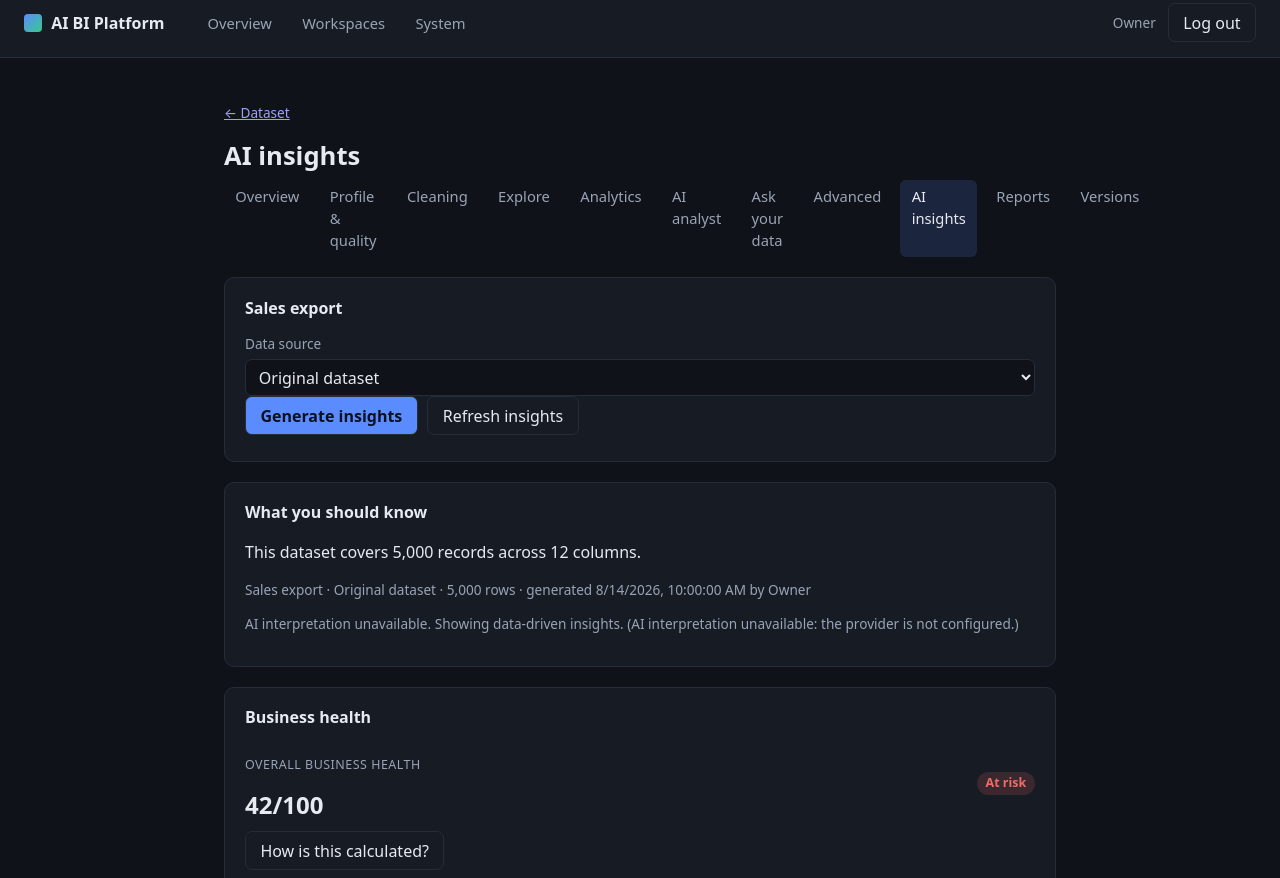
Test: DatasetInsightsPage › shows how the health score is calculated on request
This screenshot has width=1280, height=878.
Click the button "How is this calculated?": (345, 851) [245,832,444,870]
(page scrolled)
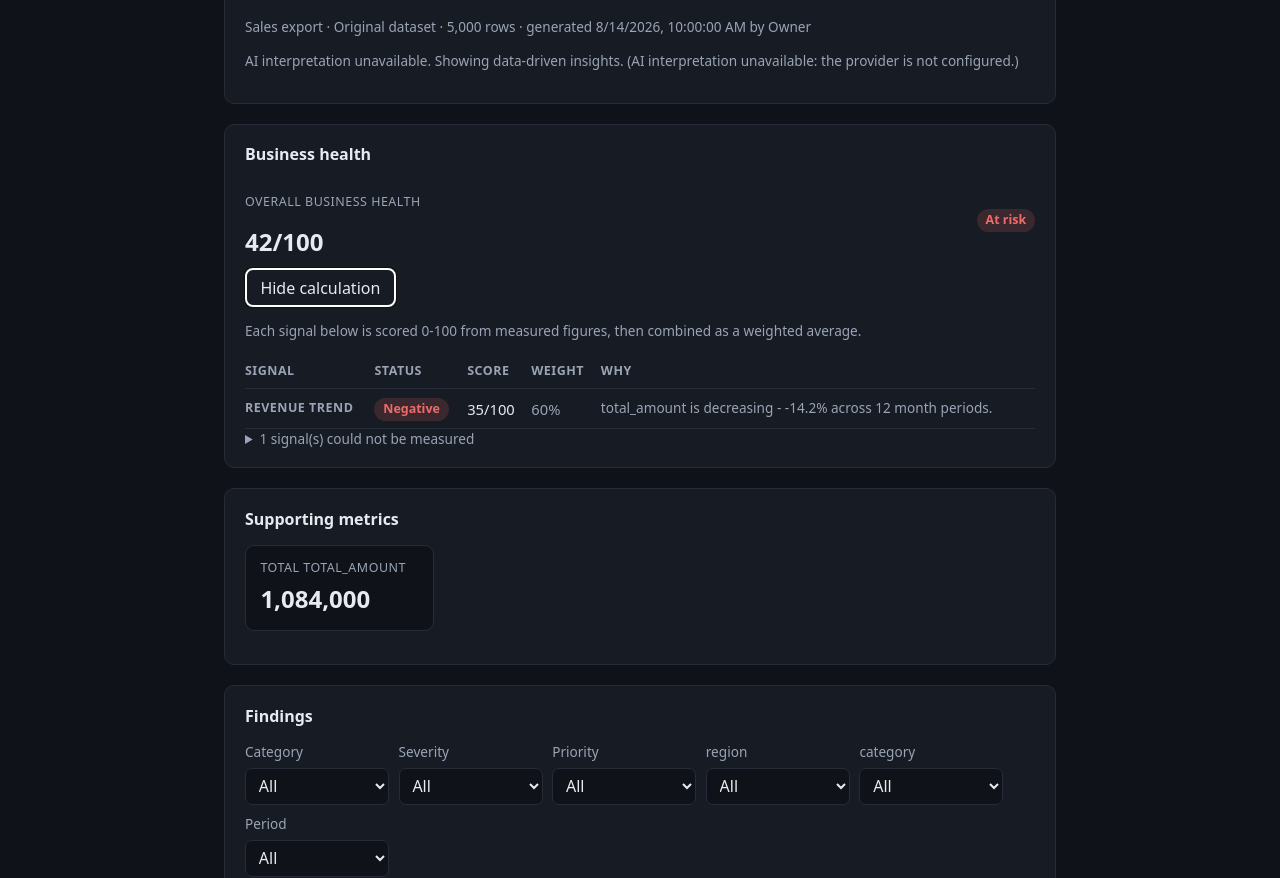
Expected: the table with test id "health-factors" shows "Revenue trend", [245,399,353,416]
Now the text with test id "health-methodology" shows "weighted average", box [245,321,861,340]
